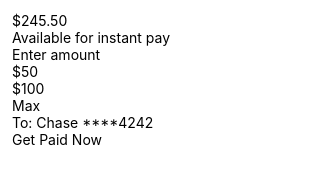
Test case: Instant Pay Flow Integration › Select Amount › provides quick amount buttons
This screenshot has width=332, height=196.
Expected: the element with test id "quick-amounts" is shown, [12,63,44,114]
# Press $100 button
Click the element with test id "amount-100".
click(28, 88)  # box [12,80,44,97]
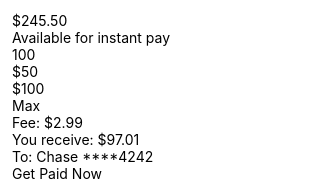
Expected: the field with test id "amount-input" holds "100", [12,46,230,63]
